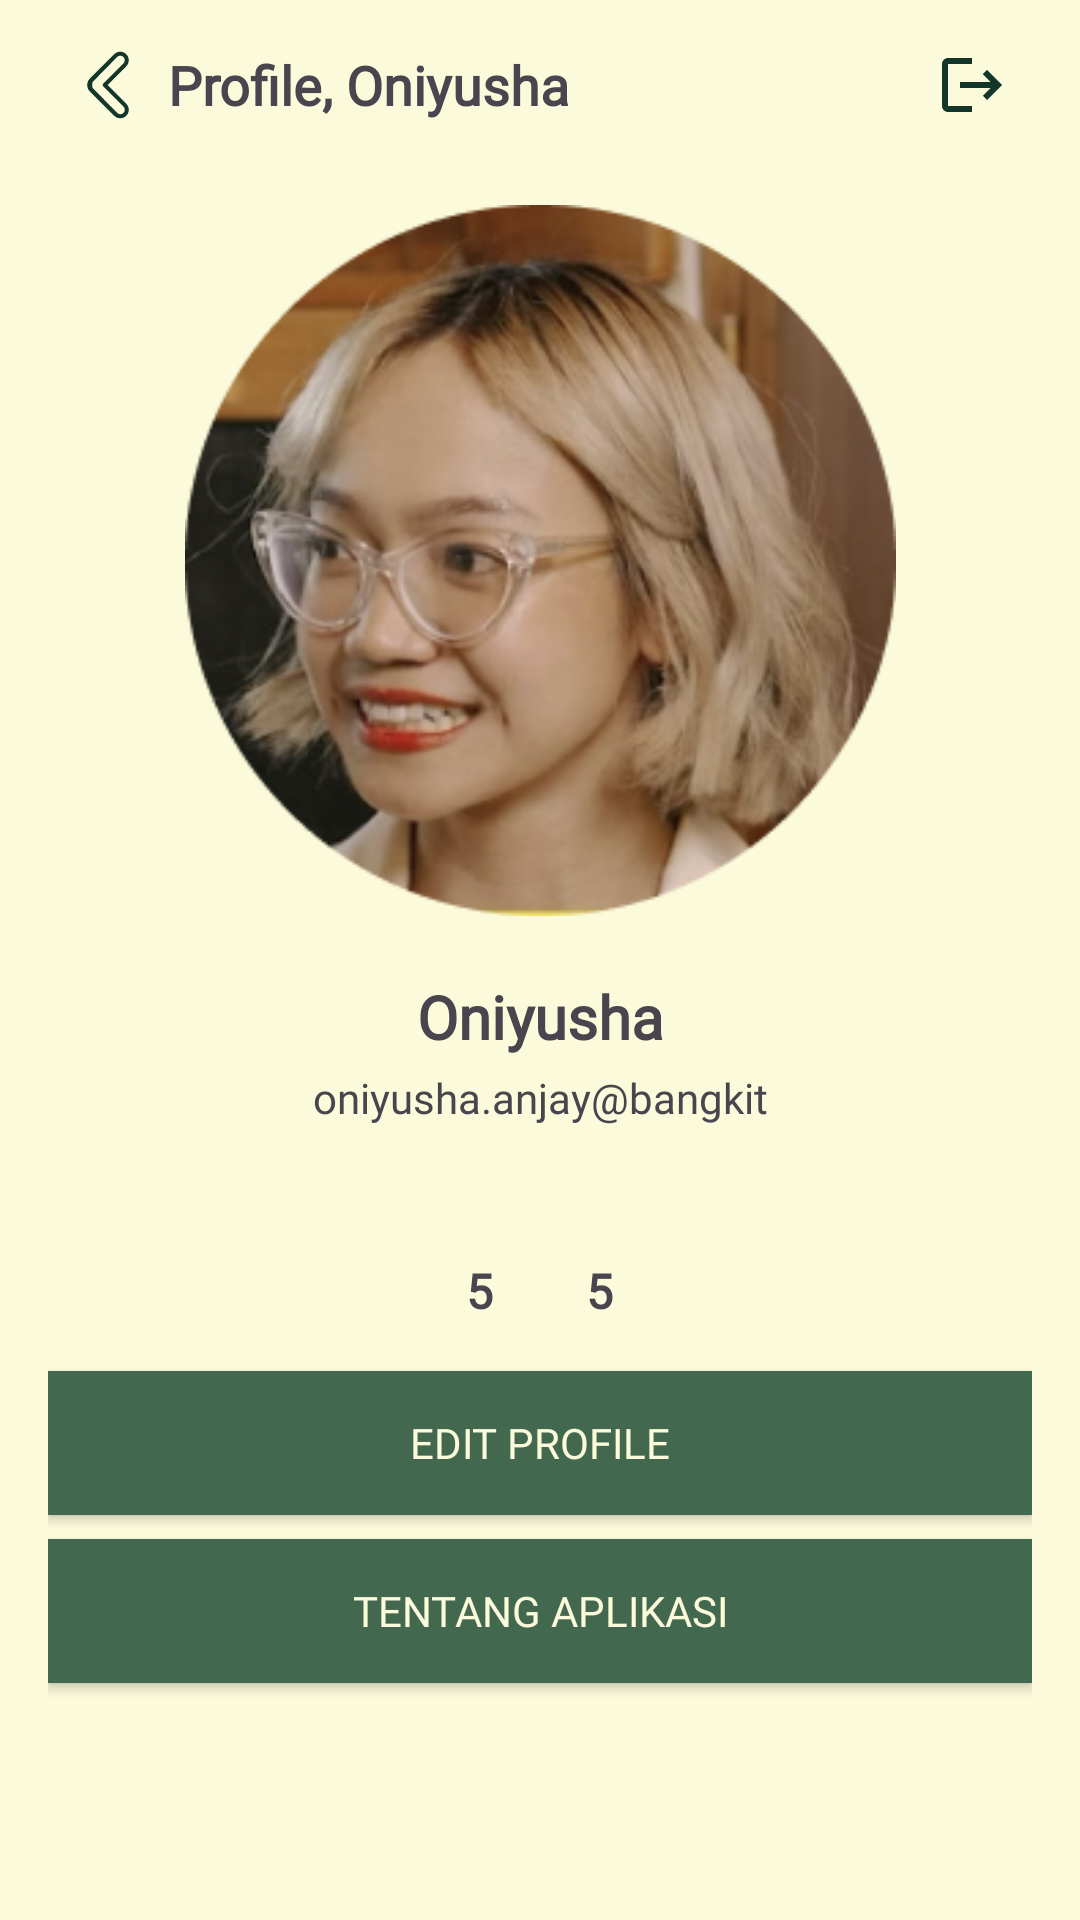

Icons on this 1080w x 1920h Android screen, each with its box as bbox=[x1, y1, x2, y2]:
back: bbox=[87, 51, 129, 119]
